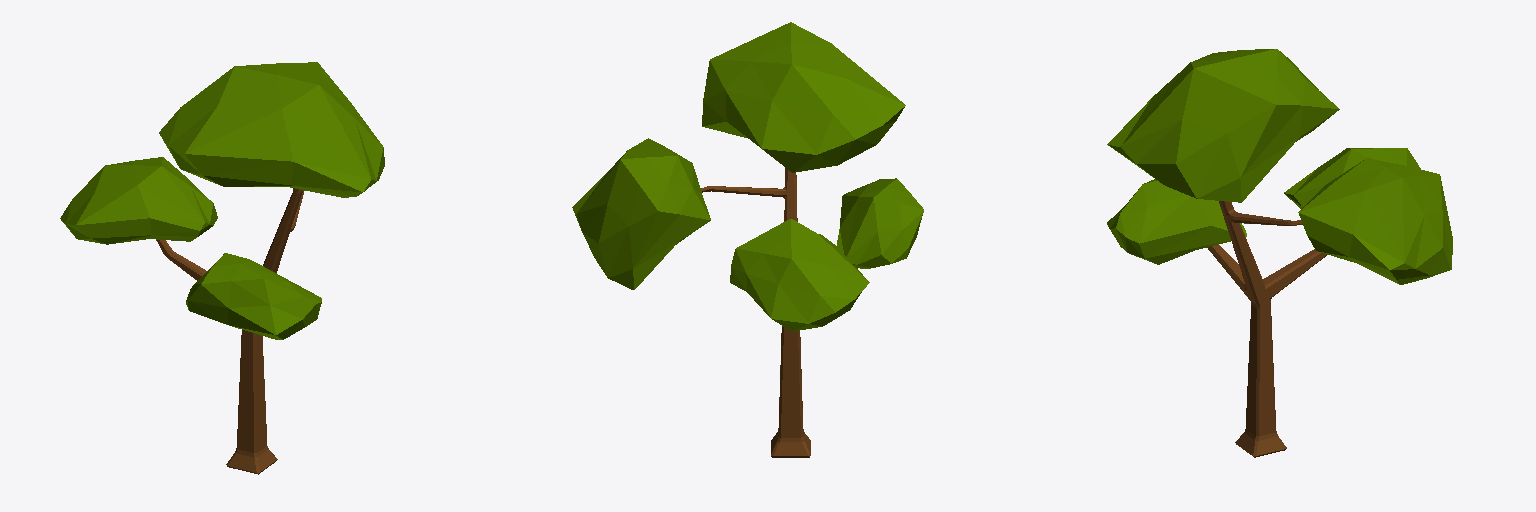
Rendered from tree1.obj.
The picture shows the model from 3 angles: view 1: azimuth 30°, elevation 25°; view 2: azimuth 150°, elevation 25°; view 3: azimuth 270°, elevation 25°; orthographic projection.
Parts seen in each view (by area): view 1: tree1.1; view 2: tree1.1; view 3: tree1.1.
Boxes of the visible parts, x1=… form: tree1.1: x1=60, y1=62, x2=384, y2=474; tree1.1: x1=572, y1=22, x2=923, y2=457; tree1.1: x1=1107, y1=49, x2=1452, y2=457.
Bounding box in the file's own units: 12.16 × 16.26 × 12.94.